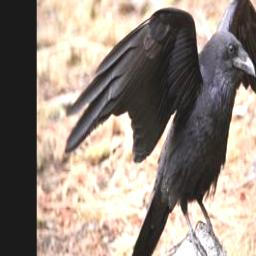Crow: (62, 0, 256, 256)
